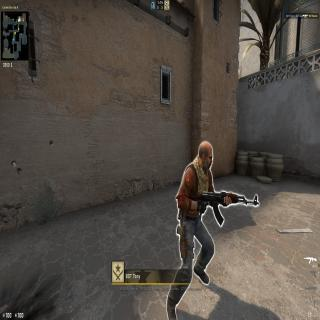T-Head: (197, 138, 215, 176)
